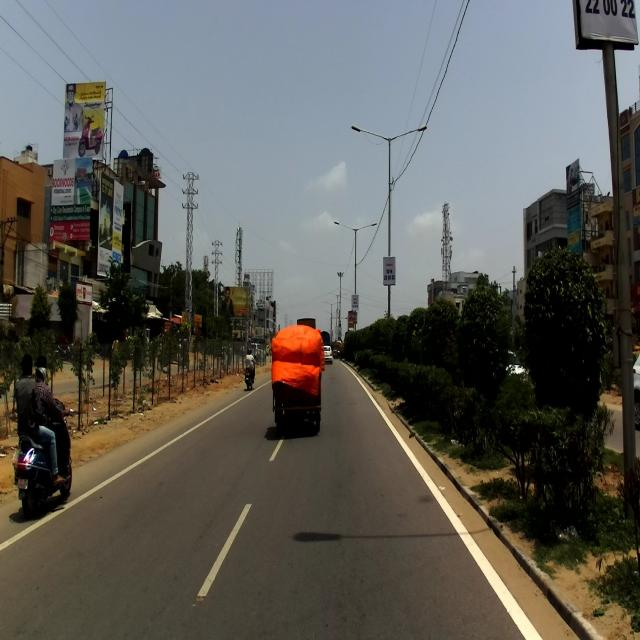autorickshaw: (270, 324, 324, 432)
scooter: (12, 396, 74, 518)
